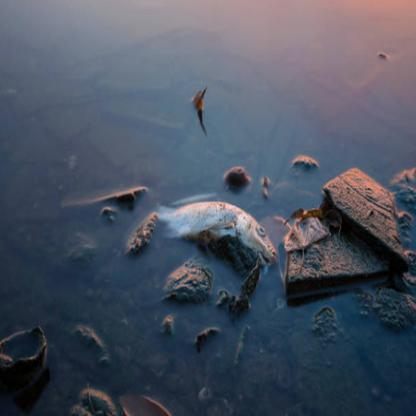deceased fish: (147, 199, 278, 263)
